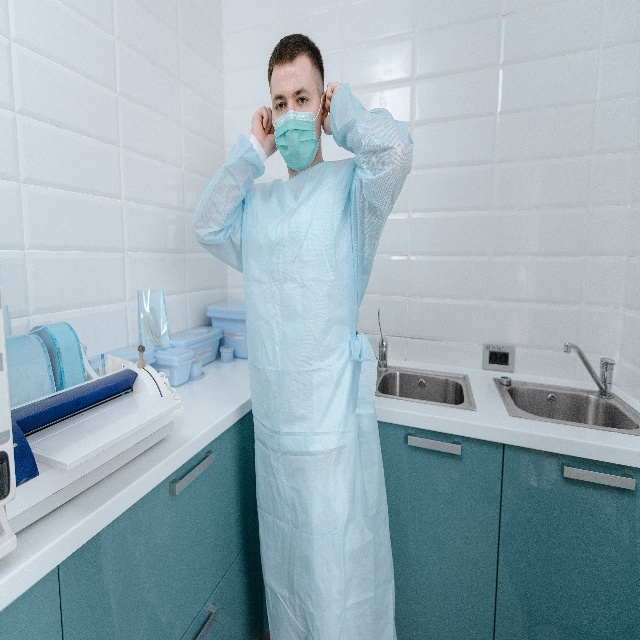Mascara: (270, 93, 324, 173)
Sin_guantes: (252, 104, 278, 157), (323, 80, 342, 135)
